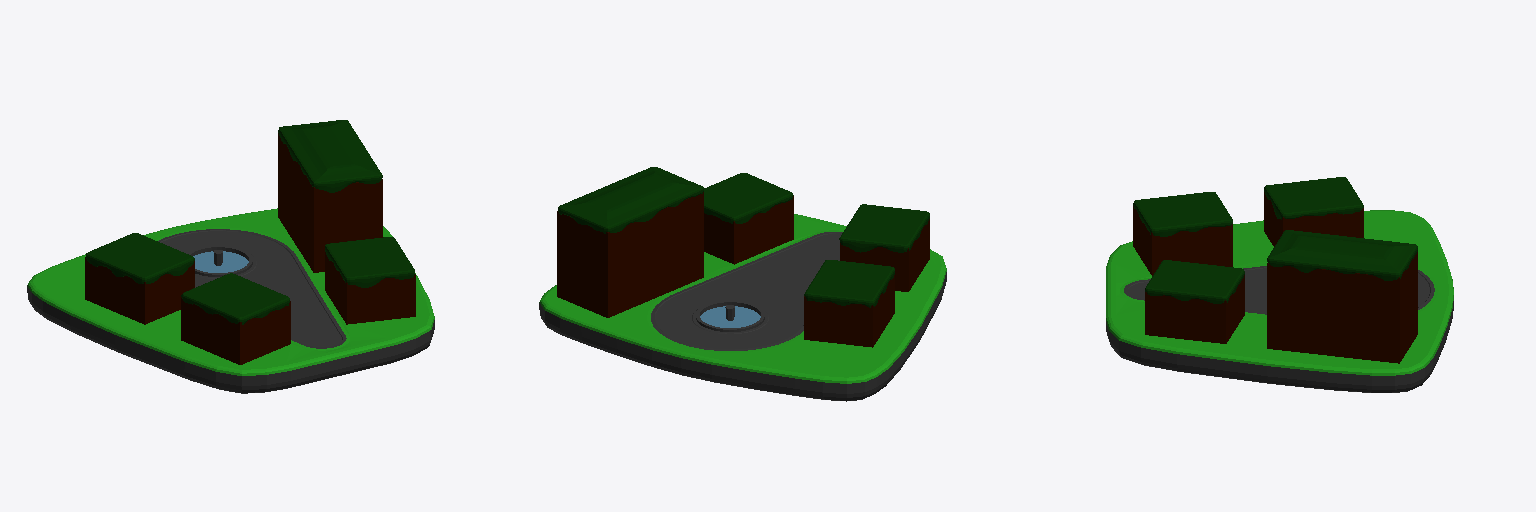
File: HikeGardenFooStepB.obj
3 views of the same model, side by side, from view 1: azimuth 30°, elevation 25°; view 2: azimuth 150°, elevation 25°; view 3: azimuth 270°, elevation 25° (orthographic).
Parts seen in each view (by area): view 1: HikeGardenFooStepBCollision_HigeGardenFooStepBCollision; view 2: HikeGardenFooStepBCollision_HigeGardenFooStepBCollision; view 3: HikeGardenFooStepBCollision_HigeGardenFooStepBCollision.
Boxes of the visible parts, x1=… form: HikeGardenFooStepBCollision_HigeGardenFooStepBCollision: x1=27, y1=120, x2=434, y2=393; HikeGardenFooStepBCollision_HigeGardenFooStepBCollision: x1=539, y1=167, x2=946, y2=401; HikeGardenFooStepBCollision_HigeGardenFooStepBCollision: x1=1106, y1=177, x2=1453, y2=392.
Size of the model in its own units: 8772 by 3033 by 7935.